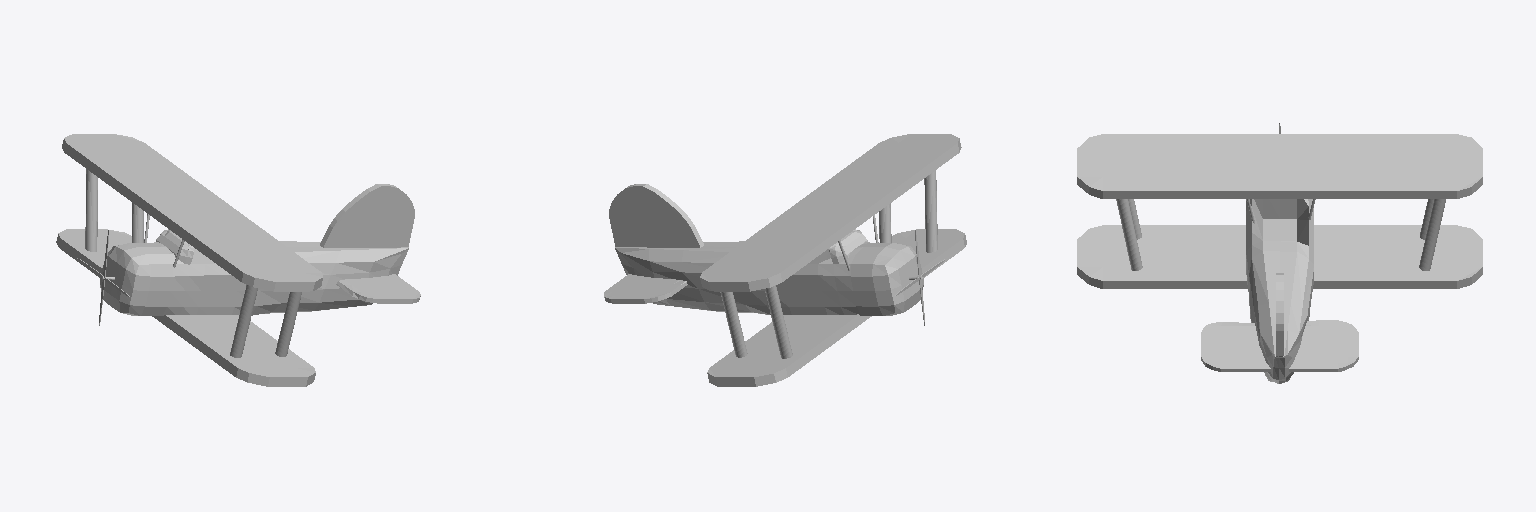
File: biplane.obj
3 views of the same model, side by side, from view 1: azimuth 30°, elevation 25°; view 2: azimuth 150°, elevation 25°; view 3: azimuth 270°, elevation 25° (orthographic).
Visible parts, largest first — view 1: Cube.001; view 2: Cube.001; view 3: Cube.001.
Part boxes in pixels (bbox=[...]): Cube.001: bbox=[56, 134, 420, 386]; Cube.001: bbox=[604, 134, 966, 386]; Cube.001: bbox=[1077, 123, 1482, 383].
Bounding box in the file's own units: 9.7 × 4.29 × 10.83.